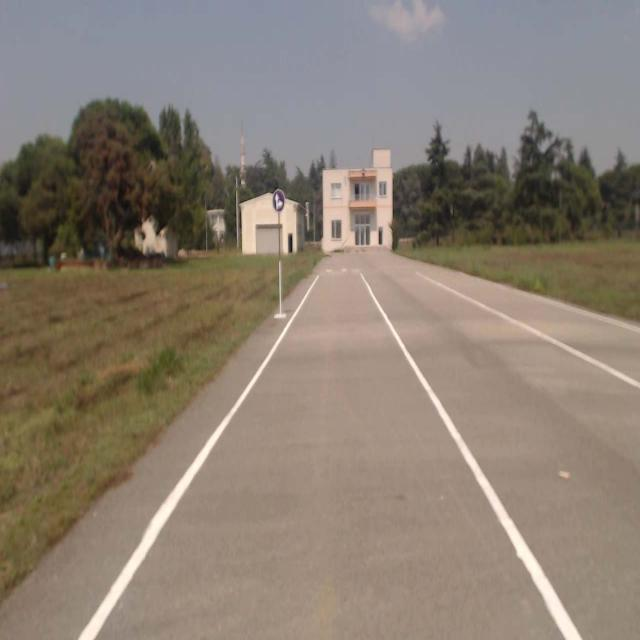ilerisag: (271, 188, 285, 214)
